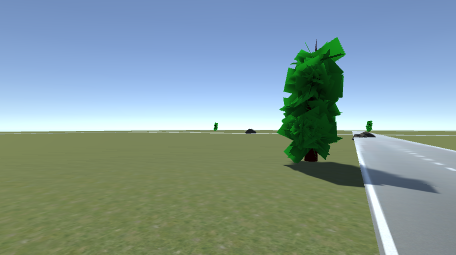rock: (351, 131, 375, 139), (245, 129, 256, 133)
tree: (280, 37, 346, 169), (366, 120, 372, 131), (213, 122, 218, 131)
